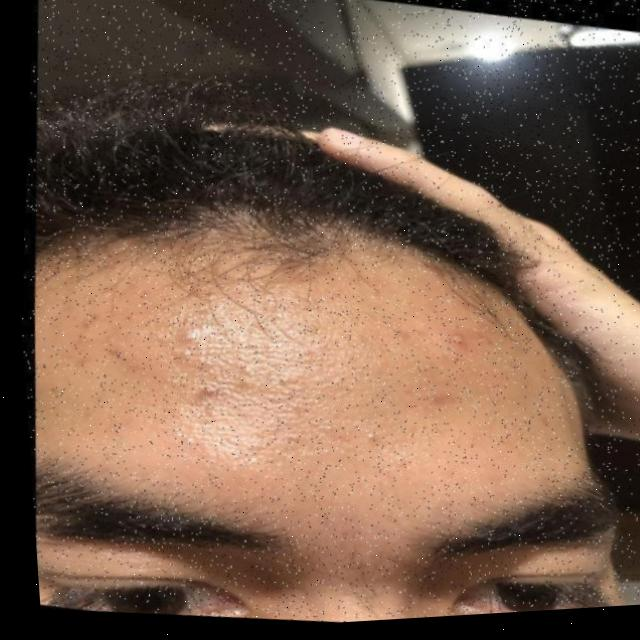Acne: (211, 249, 550, 493)
